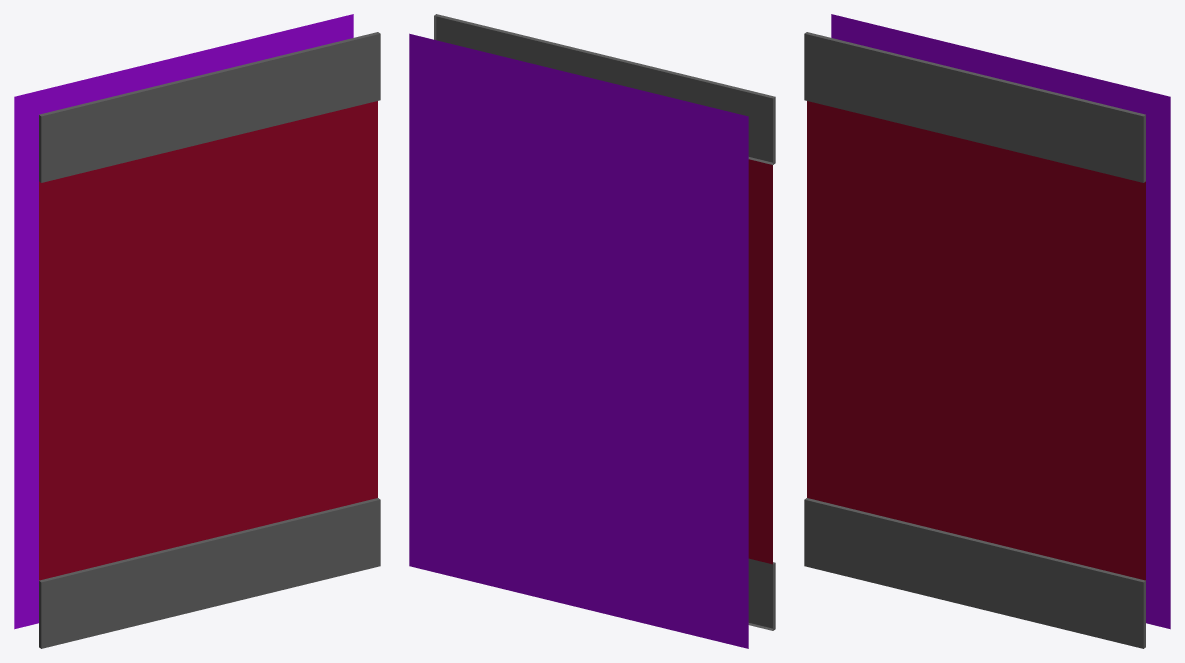
Rendered from Wall_01_2x3.fbx.
The picture shows the model from 3 angles, left to right: view 1: azimuth 30°, elevation 25°; view 2: azimuth 150°, elevation 25°; view 3: azimuth 330°, elevation 25°; orthographic projection.
Parts seen in each view (by area): view 1: Wall_01_2x3; view 2: Wall_01_2x3; view 3: Wall_01_2x3.
Boxes of the visible parts, x1,y1,x2,y2 form: Wall_01_2x3: [14, 14, 380, 648]; Wall_01_2x3: [409, 14, 775, 648]; Wall_01_2x3: [804, 14, 1170, 648].
Bounding box in the file's own units: 2 × 3 × 0.275.
